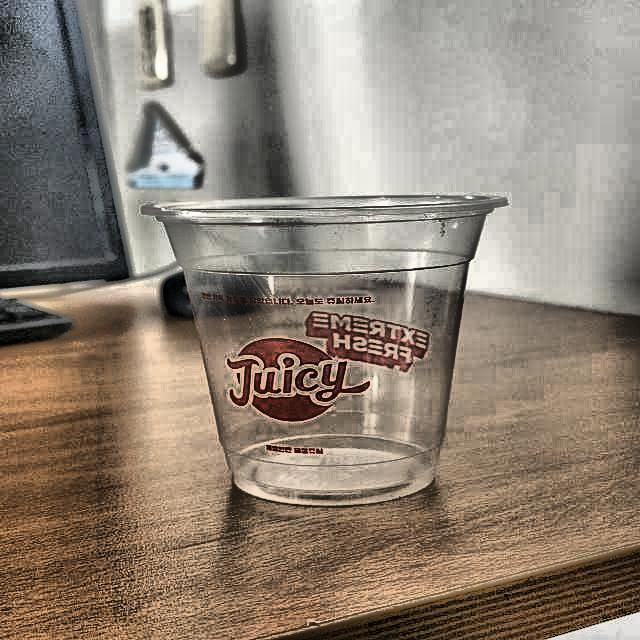plastic cup: (139, 191, 510, 504)
